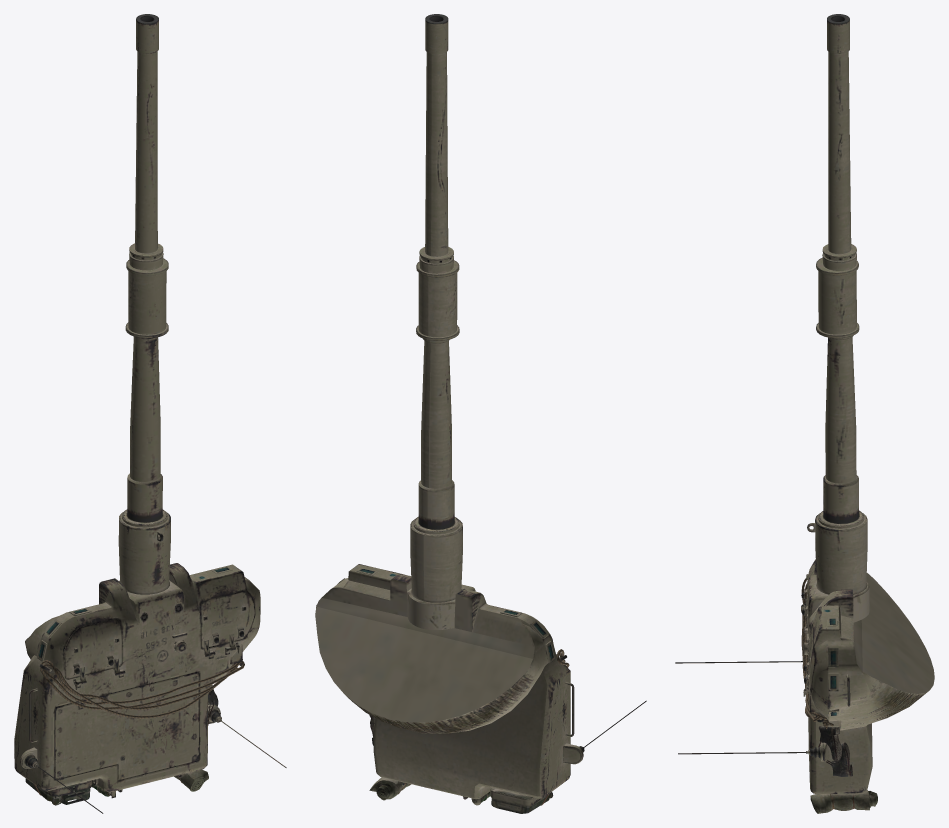
Rendered from Gun_01.glb.
3 views of the same model, side by side, from view 1: azimuth 30°, elevation 25°; view 2: azimuth 150°, elevation 25°; view 3: azimuth 270°, elevation 25° (orthographic).
Parts seen in each view (by area): view 1: set_0_group_0; view 2: set_0_group_0; view 3: set_0_group_0.
Part boxes in pixels (bbox=[...]): set_0_group_0: bbox=[14, 14, 286, 813]; set_0_group_0: bbox=[315, 14, 646, 813]; set_0_group_0: bbox=[675, 14, 934, 813].
Bounding box in the file's own units: 2.27 × 6.72 × 2.04.
Materials: 1 (1 with a texture image).
